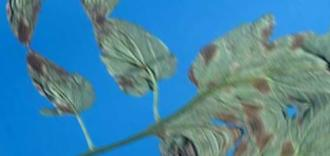Tomato mold leaf: (126, 0, 330, 156), (75, 0, 187, 114), (12, 34, 102, 131)
